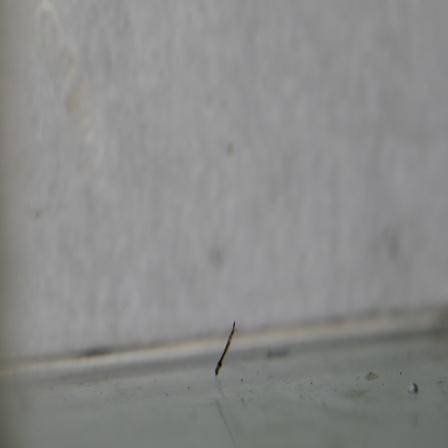Jentik-Nyamuk: (212, 319, 237, 377)
